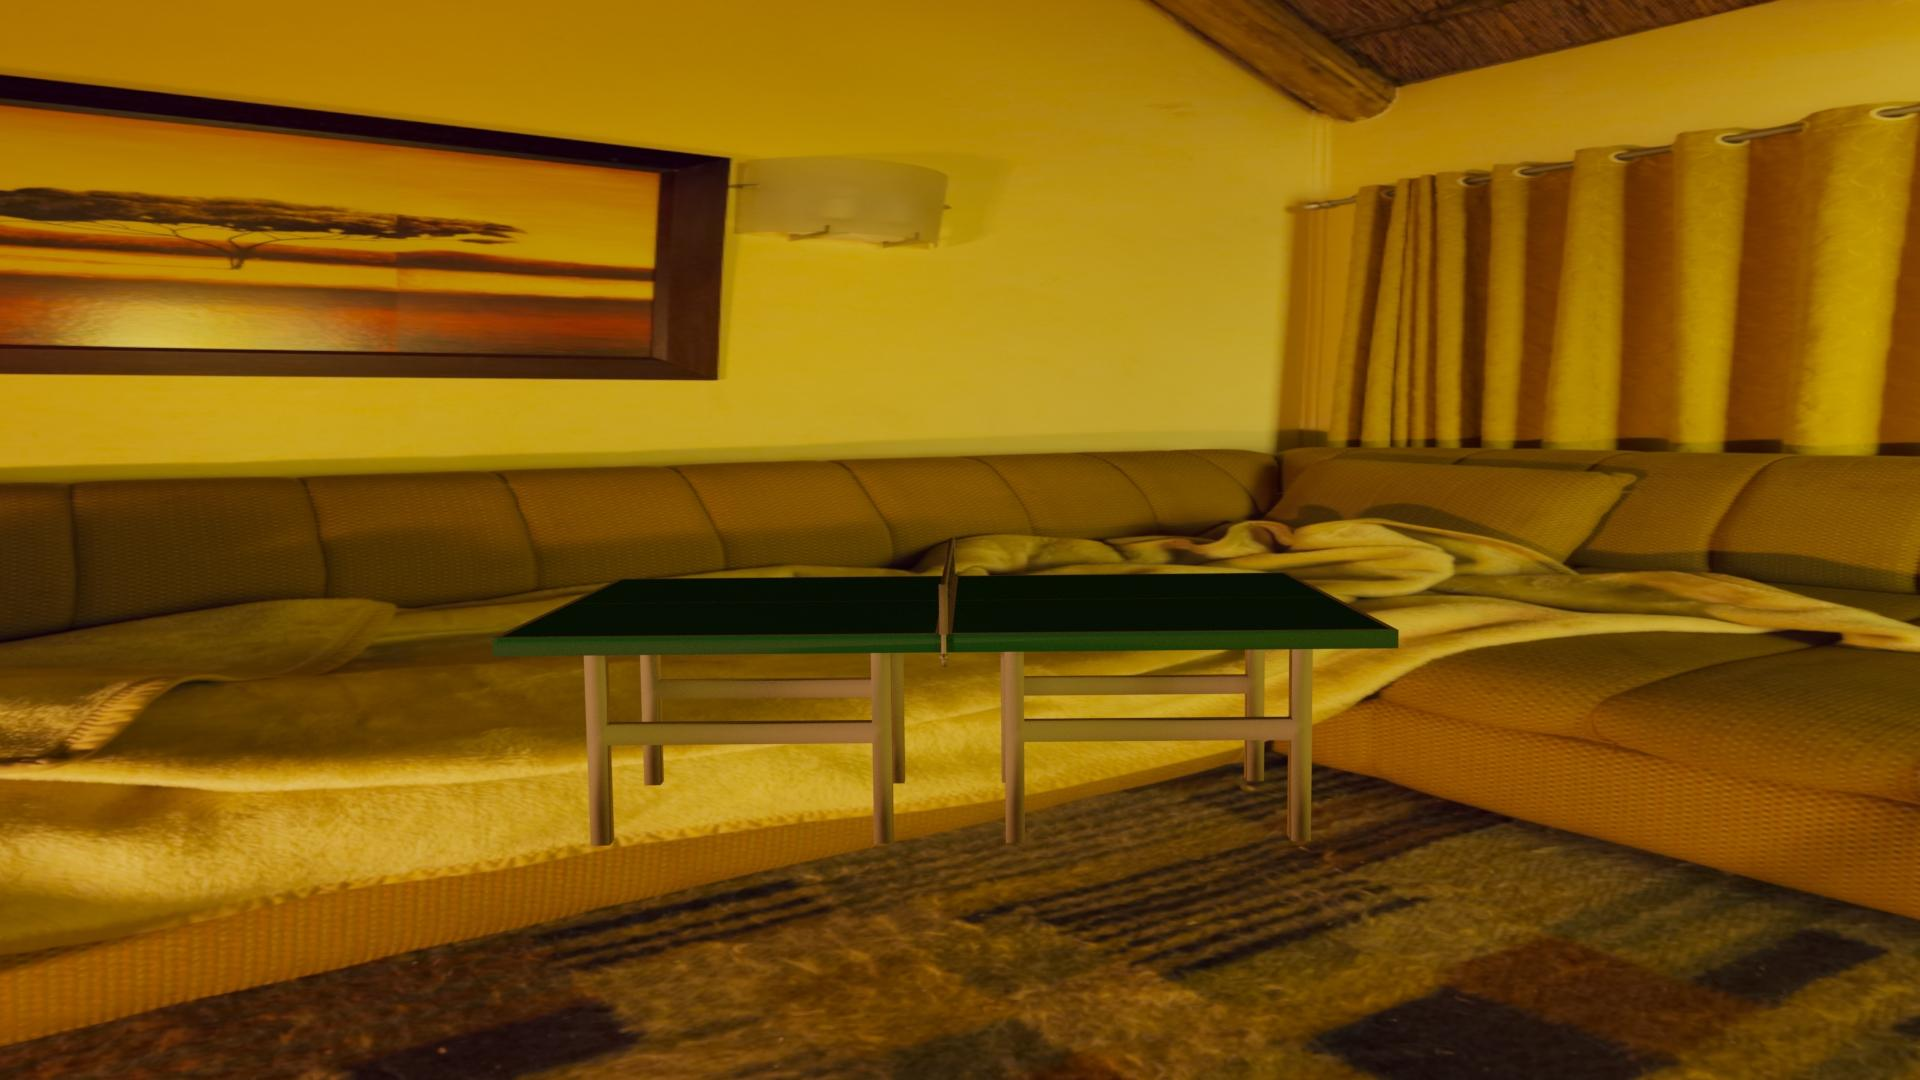table: (501, 574, 1390, 637)
